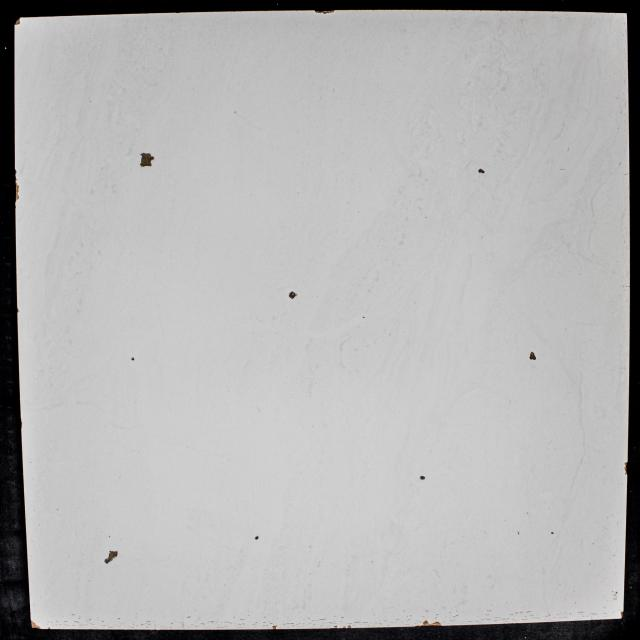edge-chipping: (30, 620, 41, 630), (14, 17, 20, 25), (322, 10, 334, 14), (423, 620, 429, 626), (620, 611, 624, 619), (314, 10, 322, 14), (16, 184, 19, 194), (272, 625, 278, 630), (435, 621, 441, 626), (624, 466, 627, 475), (16, 195, 20, 199), (430, 622, 434, 626), (624, 462, 628, 466), (17, 308, 20, 313), (15, 168, 17, 175), (15, 199, 18, 203), (348, 625, 352, 628), (333, 626, 338, 628), (415, 625, 420, 627), (15, 178, 18, 181), (342, 626, 346, 628), (15, 182, 18, 184), (21, 421, 22, 427), (48, 627, 50, 629)
hole: (139, 152, 155, 168), (104, 550, 118, 564), (288, 291, 298, 299), (530, 351, 536, 360), (478, 168, 486, 174), (420, 475, 426, 480), (255, 536, 259, 540), (132, 357, 134, 361), (551, 532, 554, 534)
